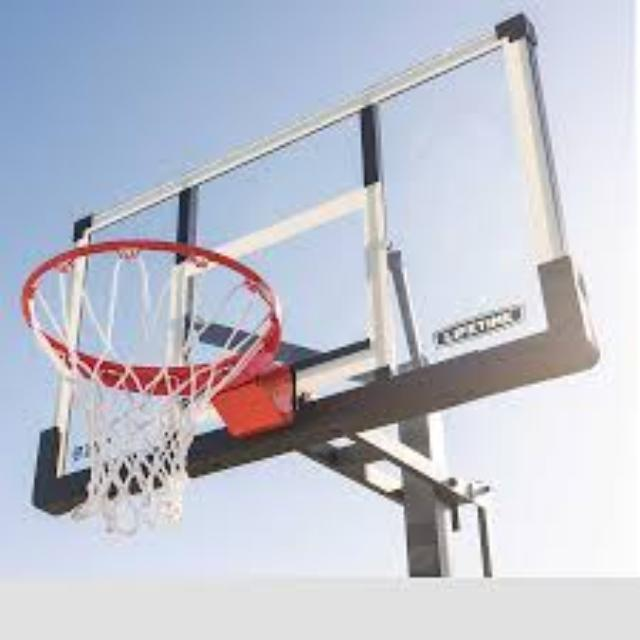rim: (22, 240, 280, 526)
